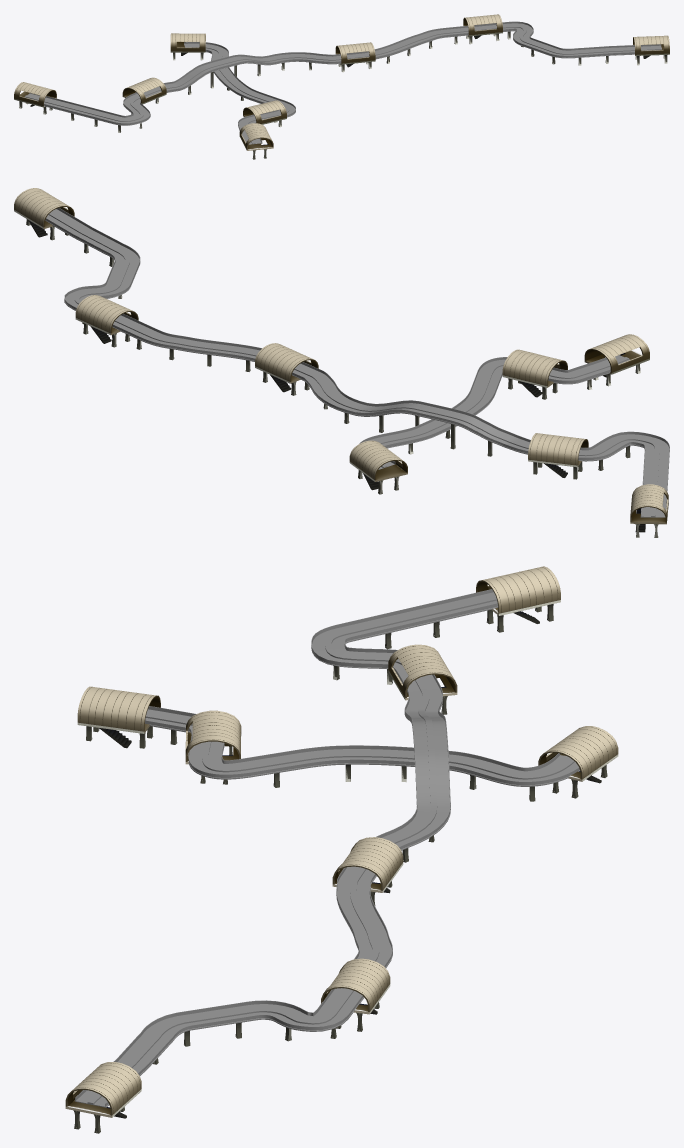
Rendered from LRT_JALUR.FBX.
3 renders of one model, top to bottom at view 1: azimuth 30°, elevation 25°; view 2: azimuth 150°, elevation 25°; view 3: azimuth 270°, elevation 25°, orthographic. The views are drawn at different scales.
Parts seen in each view (by area): view 1: JALUR 1 LRT005, Shape098, Station Gedebage008, Station Gedebage005, Station Gedebage002, Station Gedebage004, Station Gedebage006, Station Gedebage001, Station Gedebage003, Station Gedebage, Shape092; view 2: JALUR 1 LRT005, Shape098, Station Gedebage006, Station Gedebage003, Station Gedebage008, Station Gedebage002, Station Gedebage001, Station Gedebage005, Station Gedebage, Station Gedebage004, Shape092; view 3: JALUR 1 LRT005, Shape098, Station Gedebage005, Station Gedebage004, Station Gedebage, Station Gedebage008, Station Gedebage002, Station Gedebage001, Station Gedebage003, Station Gedebage006, Shape092.
Part boxes in pixels (left/top/right/bottom): JALUR 1 LRT005: left=24, top=21, right=661, bottom=125; Shape098: left=184, top=42, right=295, bottom=144; Station Gedebage008: left=170, top=33, right=205, bottom=55; Station Gedebage005: left=239, top=123, right=273, bottom=150; Station Gedebage002: left=335, top=42, right=375, bottom=67; Station Gedebage004: left=14, top=82, right=56, bottom=107; Station Gedebage006: left=243, top=100, right=286, bottom=124; Station Gedebage001: left=463, top=14, right=502, bottom=38; Station Gedebage003: left=122, top=77, right=166, bottom=104; Station Gedebage: left=633, top=35, right=669, bottom=58; Shape092: left=71, top=31, right=608, bottom=132; JALUR 1 LRT005: left=45, top=208, right=669, bottom=517; Shape098: left=359, top=355, right=630, bottom=469; Station Gedebage006: left=502, top=349, right=567, bottom=397; Station Gedebage003: left=528, top=433, right=588, bottom=477; Station Gedebage008: left=349, top=440, right=407, bottom=490; Station Gedebage002: left=255, top=343, right=318, bottom=392; Station Gedebage001: left=75, top=295, right=138, bottom=343; Station Gedebage005: left=584, top=334, right=649, bottom=377; Station Gedebage: left=14, top=188, right=74, bottom=237; Station Gedebage004: left=630, top=484, right=668, bottom=532; Shape092: left=82, top=243, right=630, bottom=470; JALUR 1 LRT005: left=75, top=589, right=498, bottom=1107; Shape098: left=145, top=706, right=579, bottom=786; Station Gedebage005: left=77, top=686, right=160, bottom=748; Station Gedebage004: left=476, top=566, right=560, bottom=623; Station Gedebage: left=65, top=1062, right=141, bottom=1118; Station Gedebage008: left=538, top=726, right=618, bottom=783; Station Gedebage002: left=332, top=837, right=403, bottom=893; Station Gedebage001: left=321, top=958, right=390, bottom=1014; Station Gedebage003: left=388, top=644, right=457, bottom=700; Station Gedebage006: left=185, top=710, right=241, bottom=764; Shape092: left=153, top=621, right=439, bottom=1064.
Size of the model in its own units: 493 by 19.62 by 215.
Materials: 3 (2 with a texture image).
